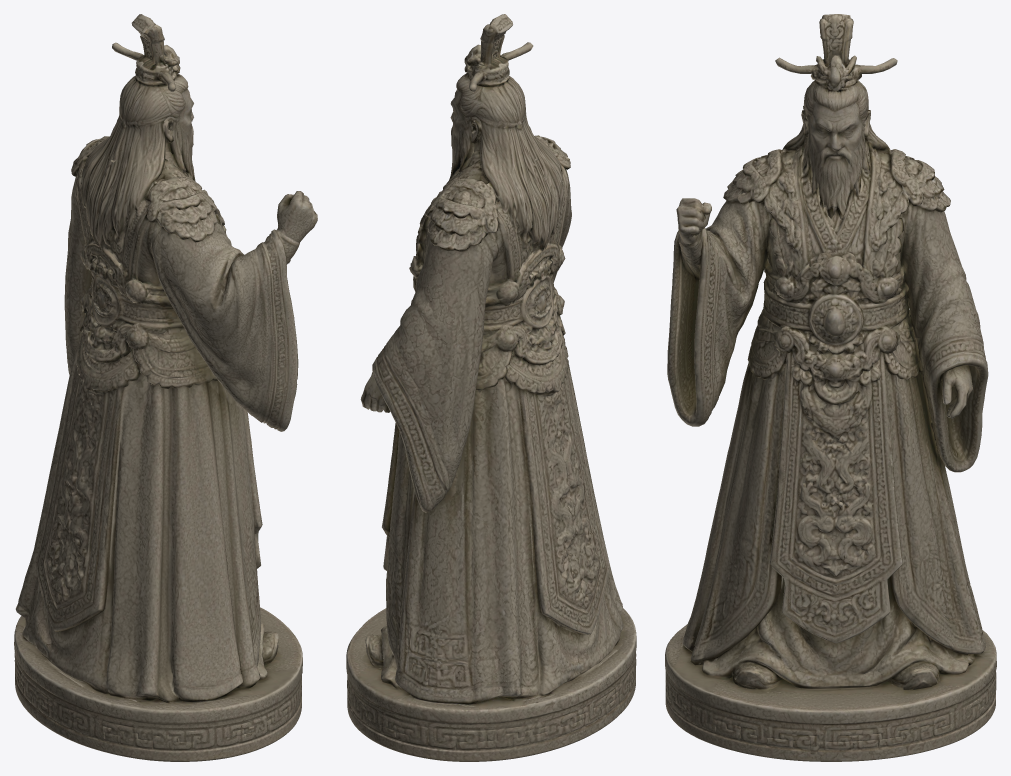
Rendered from ancient_chinese_statue_3d_model.fbx.
The picture shows the model from 3 angles, left to right: view 1: azimuth 30°, elevation 25°; view 2: azimuth 150°, elevation 25°; view 3: azimuth 270°, elevation 25°; orthographic projection.
Visible parts, largest first — view 1: tripo_node_021e9bd8; view 2: tripo_node_021e9bd8; view 3: tripo_node_021e9bd8.
Part boxes in pixels (left/top/right/bottom): tripo_node_021e9bd8: left=14, top=14, right=317, bottom=761; tripo_node_021e9bd8: left=346, top=14, right=636, bottom=761; tripo_node_021e9bd8: left=665, top=14, right=996, bottom=761.
Size of the model in its own units: 0.3565 by 0.9781 by 0.4288.
